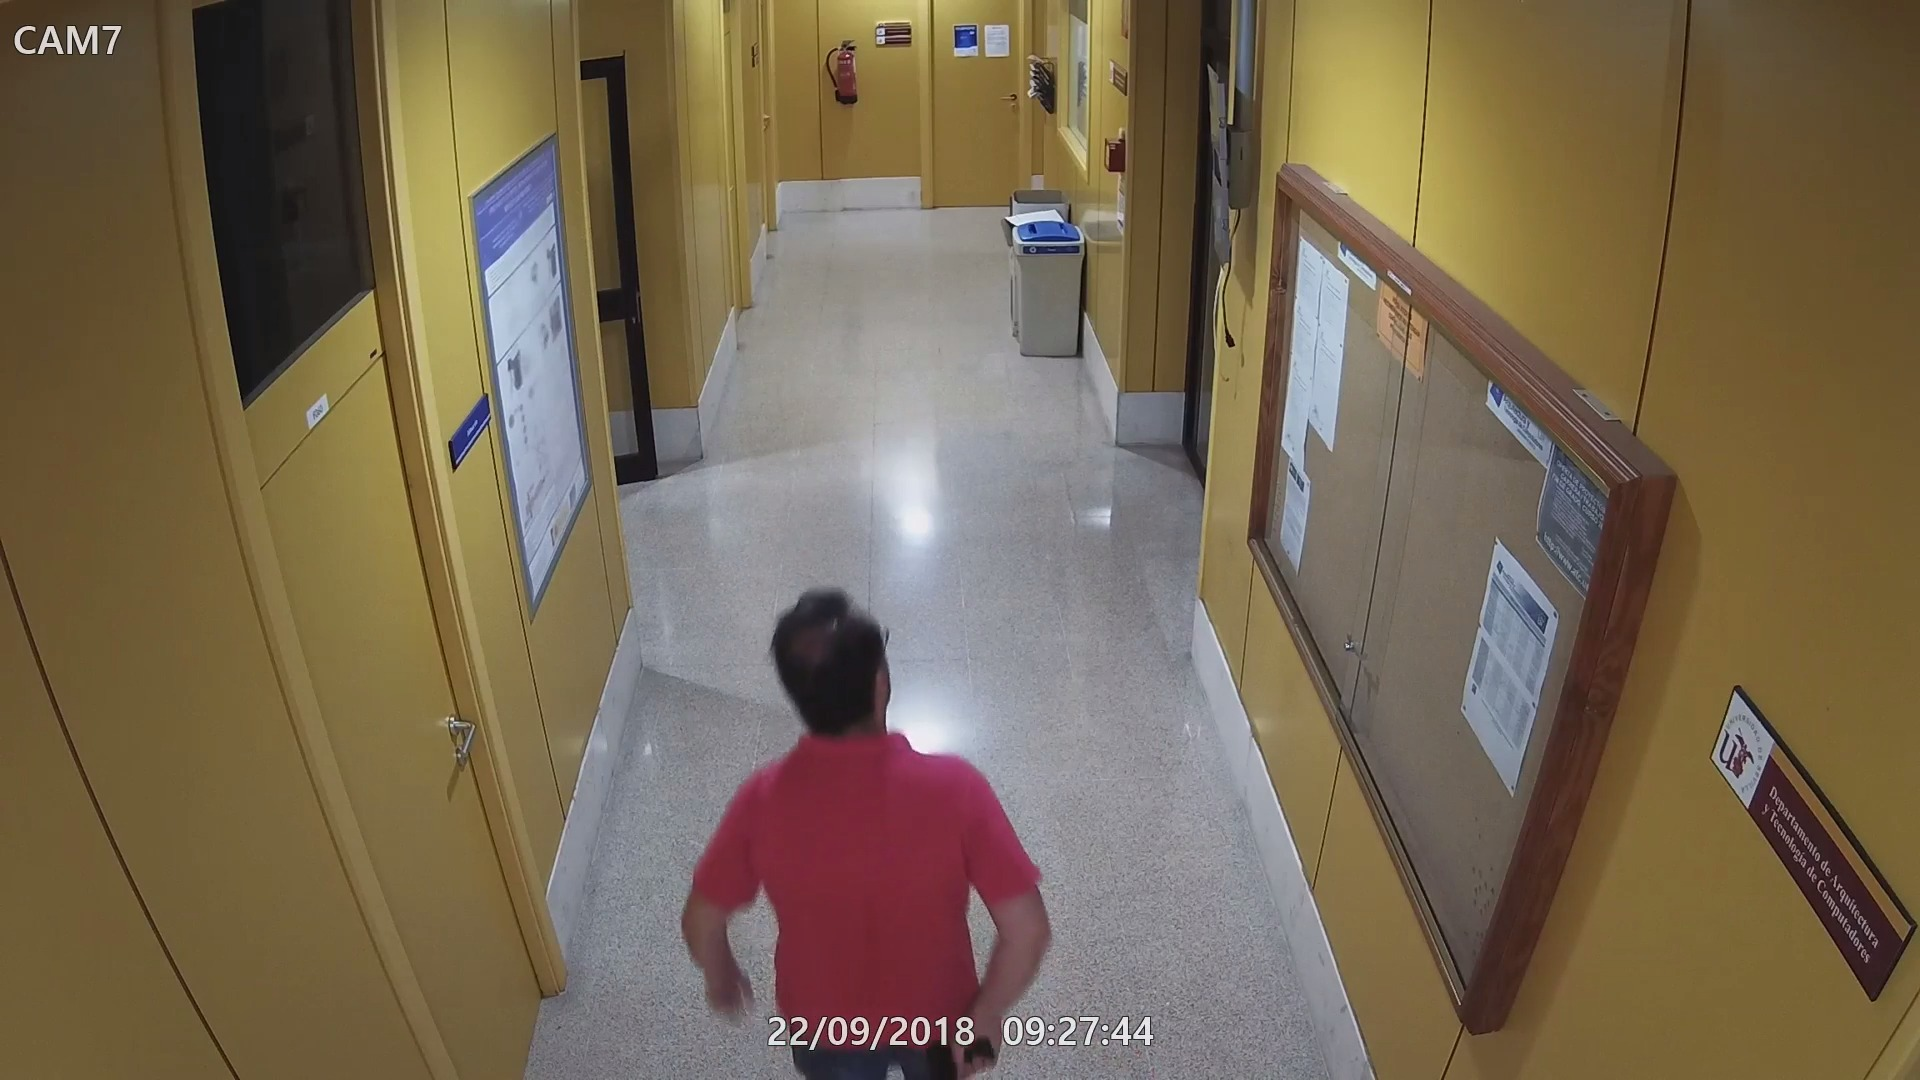Handgun: (927, 1023, 997, 1079)
